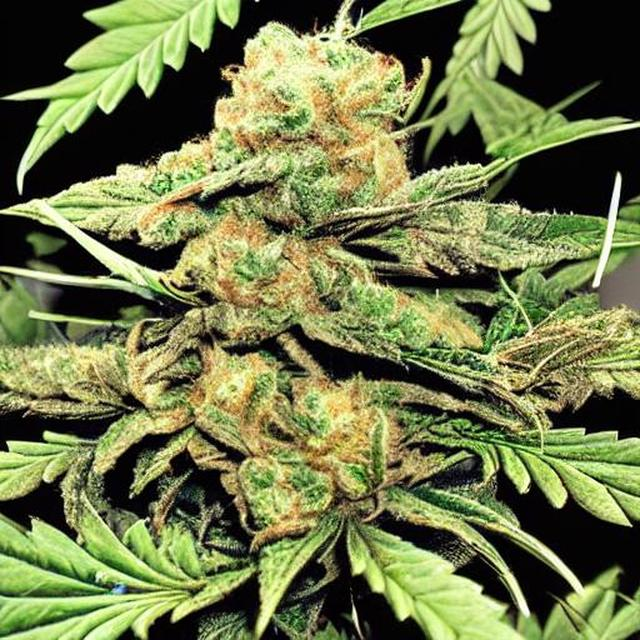Marijuana Joint: (15, 1, 640, 640)
